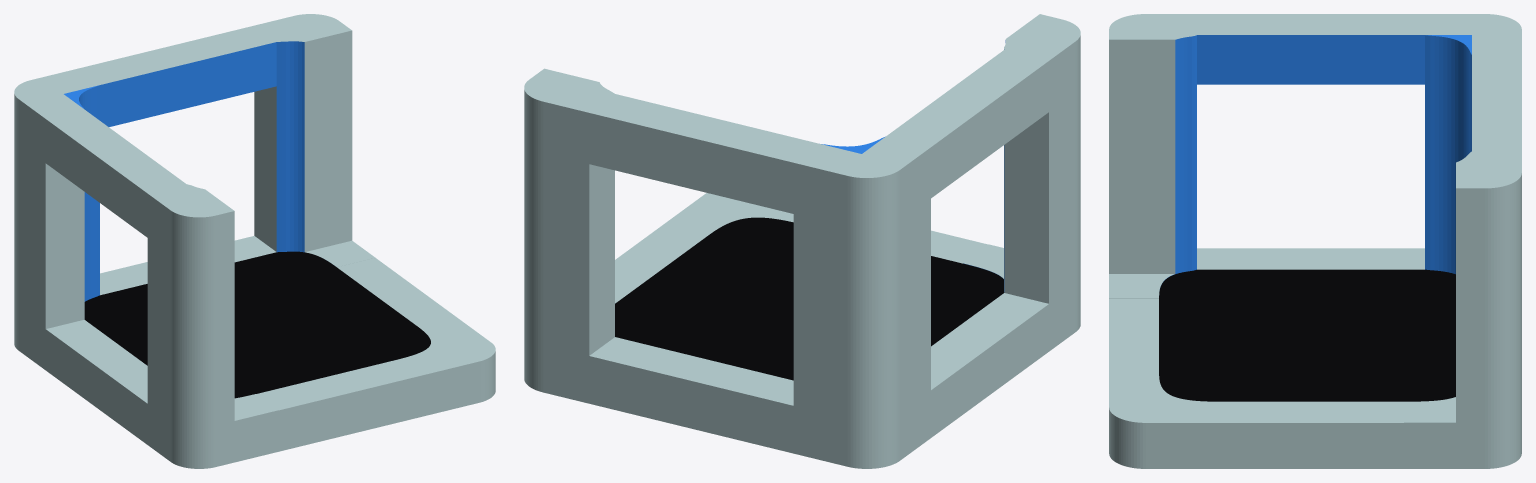
File: nuppgin6.glb
3 renders of one model, left to right at view 1: azimuth 30°, elevation 25°; view 2: azimuth 150°, elevation 25°; view 3: azimuth 270°, elevation 25°, orthographic. The views are drawn at different scales.
Parts seen in each view (by area): view 1: Cube.004; view 2: Cube.004; view 3: Cube.004.
Part boxes in pixels (x1,y1,x2,y2): Cube.004: (14, 14, 495, 468); Cube.004: (524, 14, 1080, 468); Cube.004: (1109, 14, 1521, 468).
Size of the model in its own units: 13.8 by 10.35 by 13.8.
